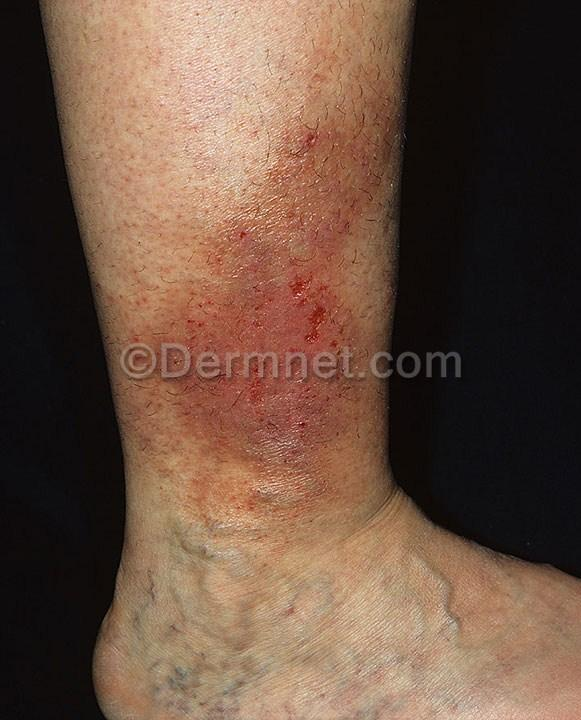Eczema: (160, 69, 373, 324), (165, 385, 374, 560)
